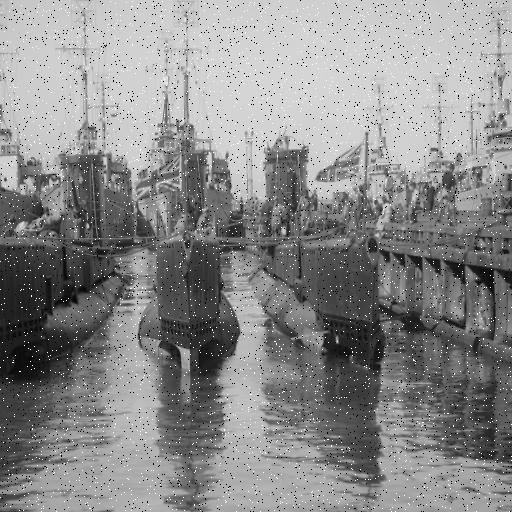submarine: (235, 116, 393, 362), (1, 129, 130, 385), (131, 113, 245, 364)
